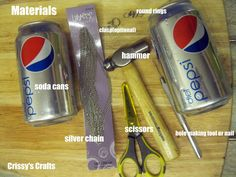can: (147, 1, 236, 118), (14, 19, 79, 129)
